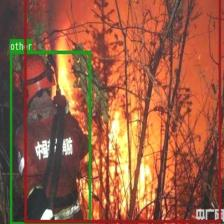fire: (24, 0, 220, 223)
